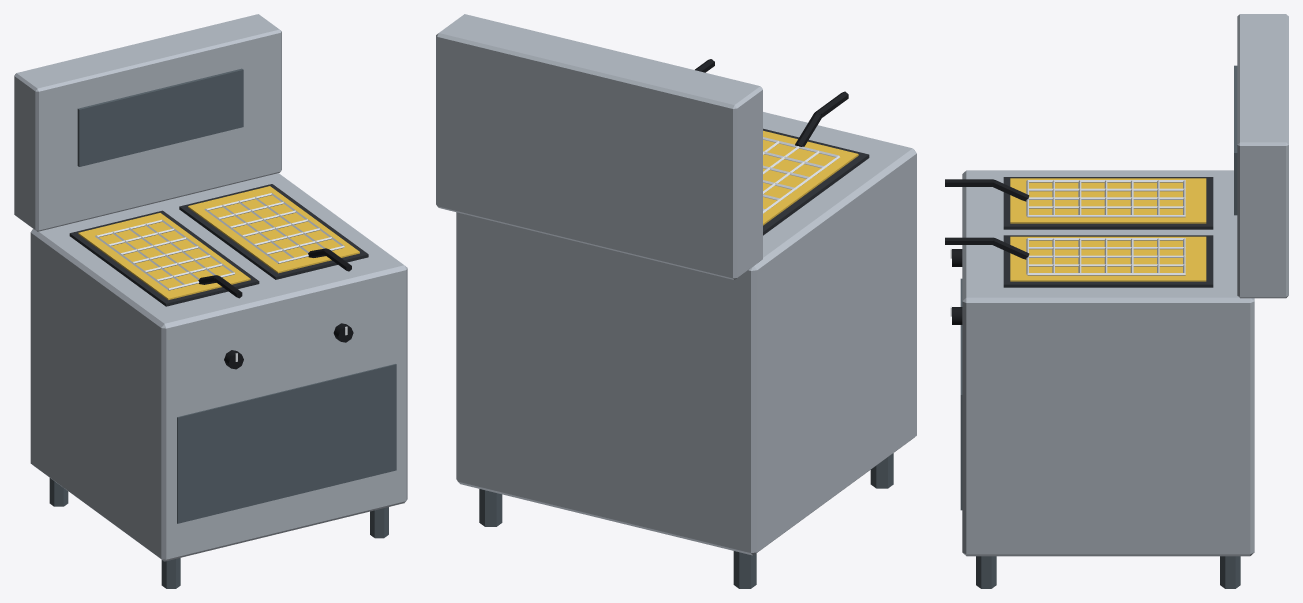
File: fryer.glb
The picture shows the model from 3 angles, left to right: view 1: azimuth 30°, elevation 25°; view 2: azimuth 150°, elevation 25°; view 3: azimuth 270°, elevation 25°; orthographic projection. The views are drawn at different scales.
Parts seen in each view (by area): view 1: fryer; view 2: fryer; view 3: fryer.
Part boxes in pixels (x1,y1,x2,y2): fryer: (14,14,407,588); fryer: (436,14,916,588); fryer: (945,14,1288,588).
Bounding box in the file's own units: 0.9 × 1.45 × 1.
